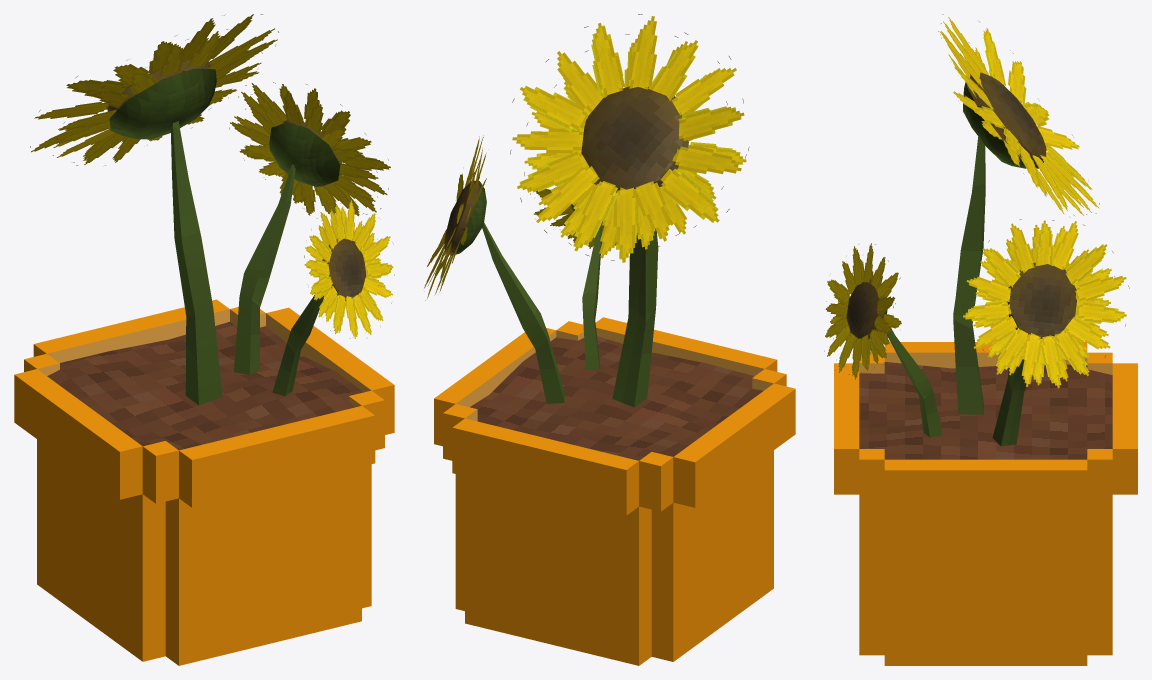
The model's file is PottedSunflowers.fbx.
3 renders of one model, left to right at view 1: azimuth 30°, elevation 25°; view 2: azimuth 150°, elevation 25°; view 3: azimuth 270°, elevation 25°, orthographic. The views are drawn at different scales.
Parts seen in each view (by area): view 1: PottedSunflowers, Sunflowers; view 2: PottedSunflowers, Sunflowers; view 3: PottedSunflowers, Sunflowers.
Part boxes in pixels (left/top/right/bottom): PottedSunflowers: left=14, top=299, right=394, bottom=665; Sunflowers: left=30, top=14, right=394, bottom=405; PottedSunflowers: left=434, top=317, right=795, bottom=665; Sunflowers: left=424, top=14, right=749, bottom=407; PottedSunflowers: left=834, top=342, right=1137, bottom=665; Sunflowers: left=824, top=14, right=1129, bottom=446.
Bounding box in the file's own units: 72.34 × 125 × 61.97.
Materials: 2 (2 with a texture image).
